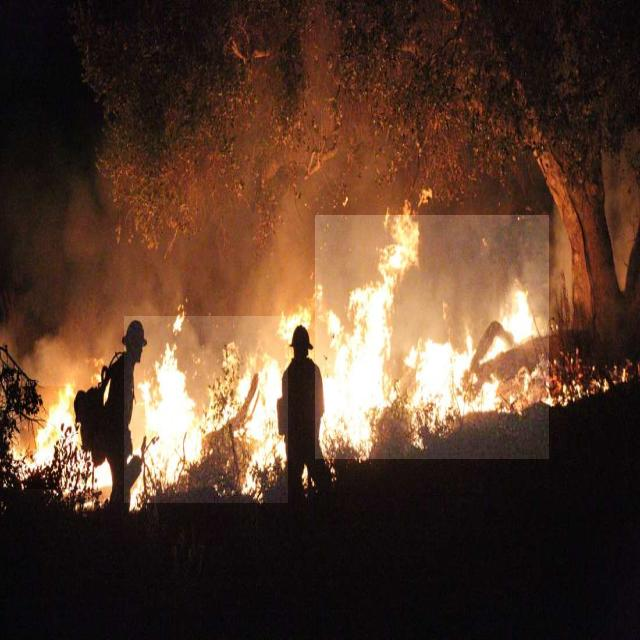Fire: (315, 216, 549, 460), (124, 316, 288, 503), (20, 386, 78, 489)
